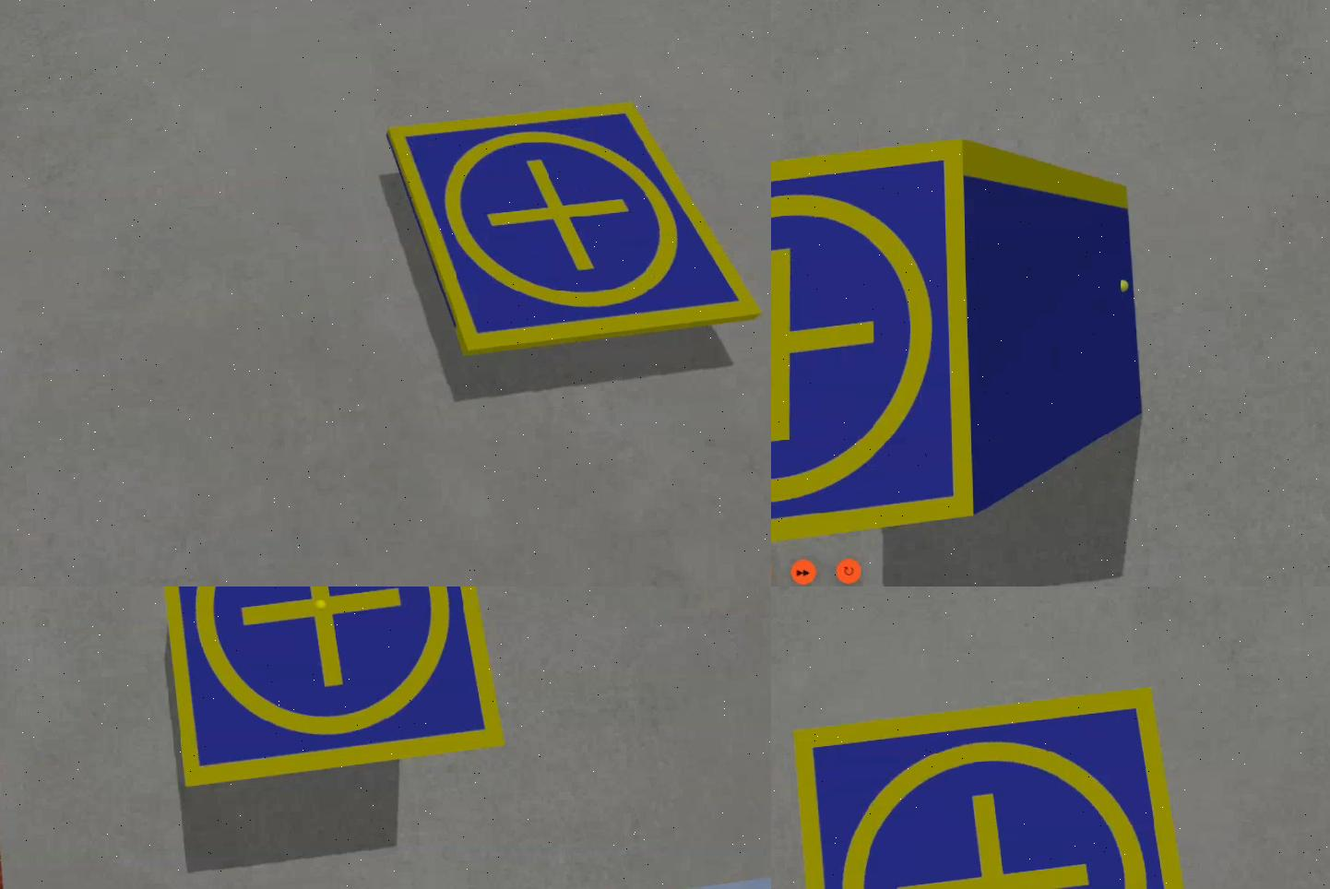small_base: (385, 100, 767, 361), (772, 140, 979, 553), (795, 691, 1217, 889), (146, 587, 511, 795)
